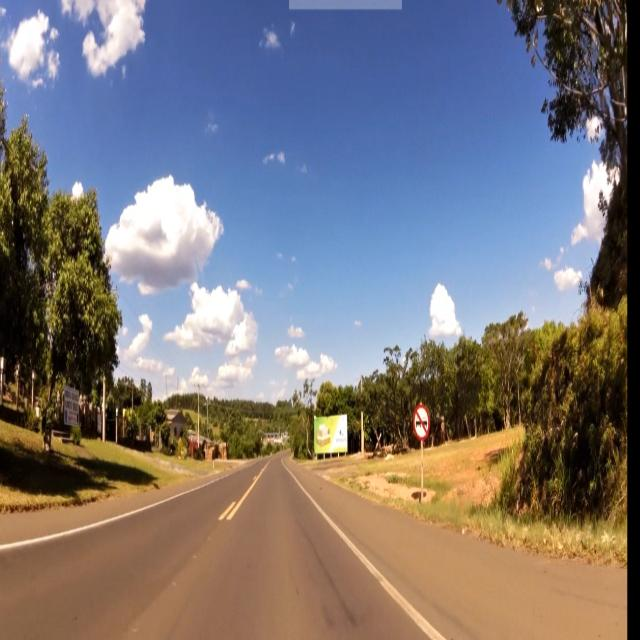R-7: (412, 406, 429, 442)
